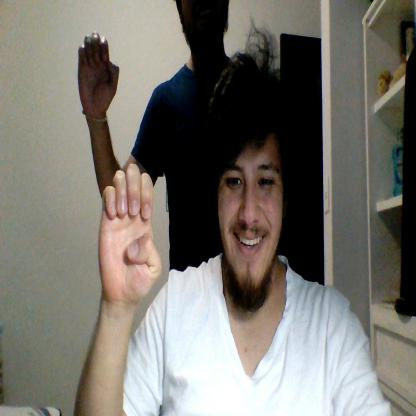E: (98, 163, 162, 304), (77, 33, 119, 113)
